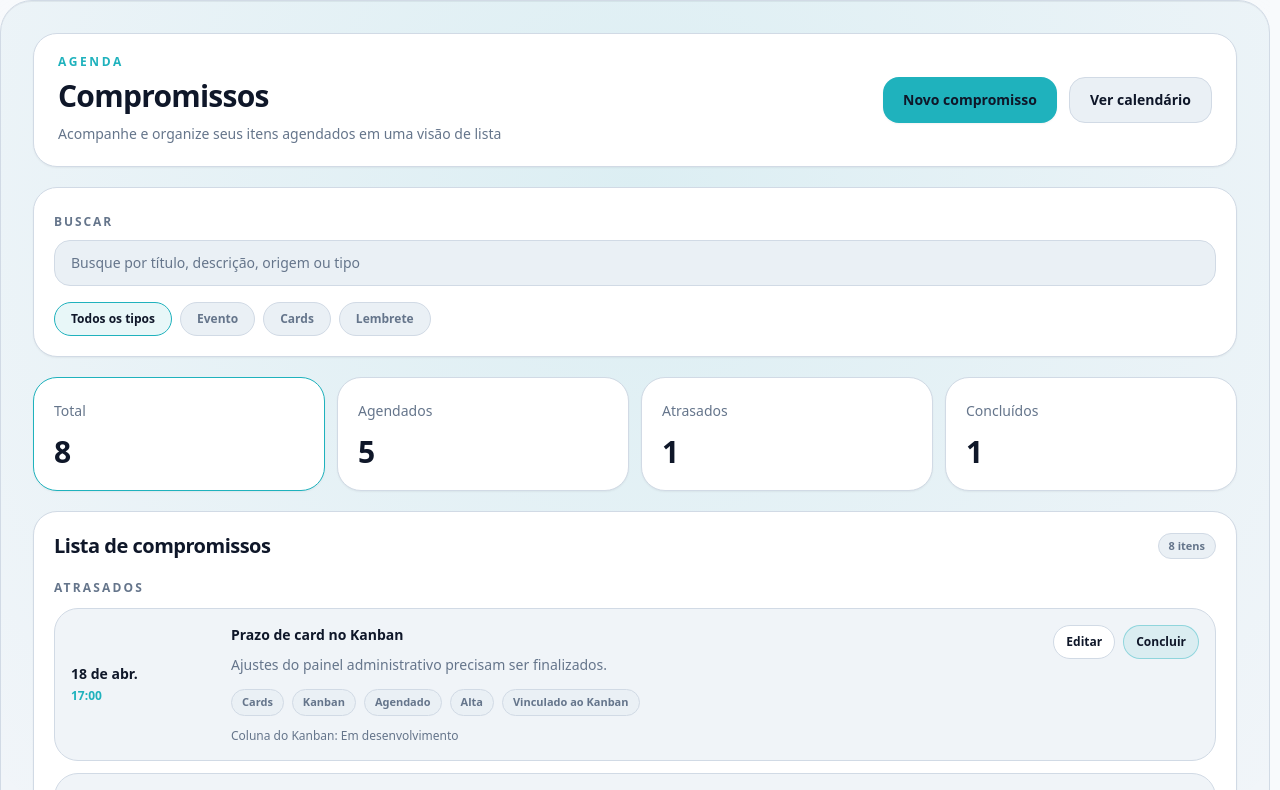
AgendaAppointmentsPage › filters appointments by scheduled status card
Click the button "Agendados 5". click: (395, 410)
box: [337,377,629,491]
(page scrolled)
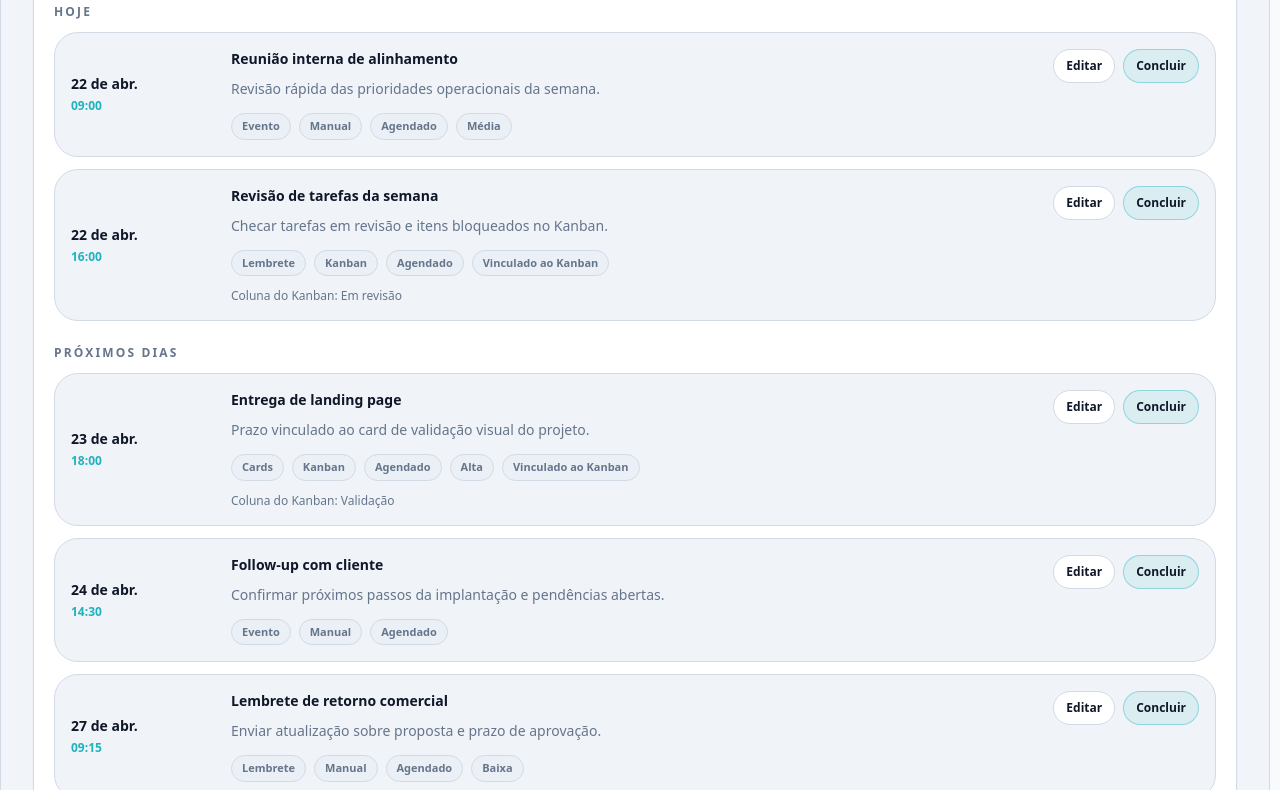
Check: the heading "Reunião interna de alinhamento" is shown, box [231,49,458,68]
Check: the button "Prazo de card no Kanban" is gone
